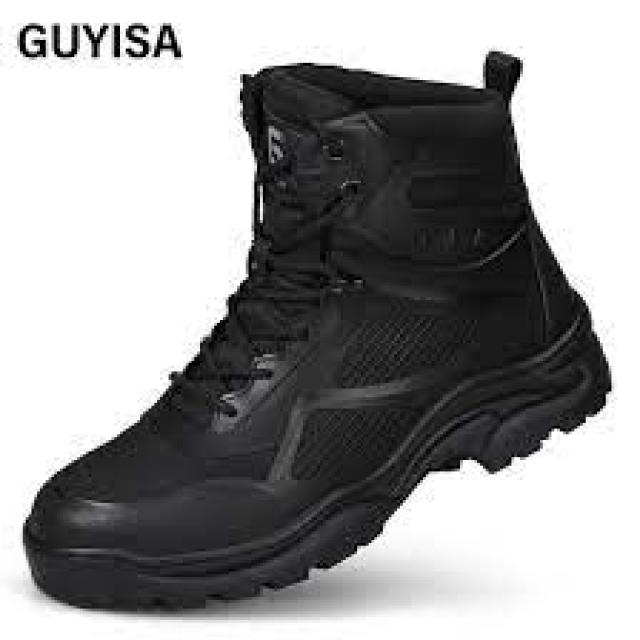shoes: (24, 52, 606, 607)
